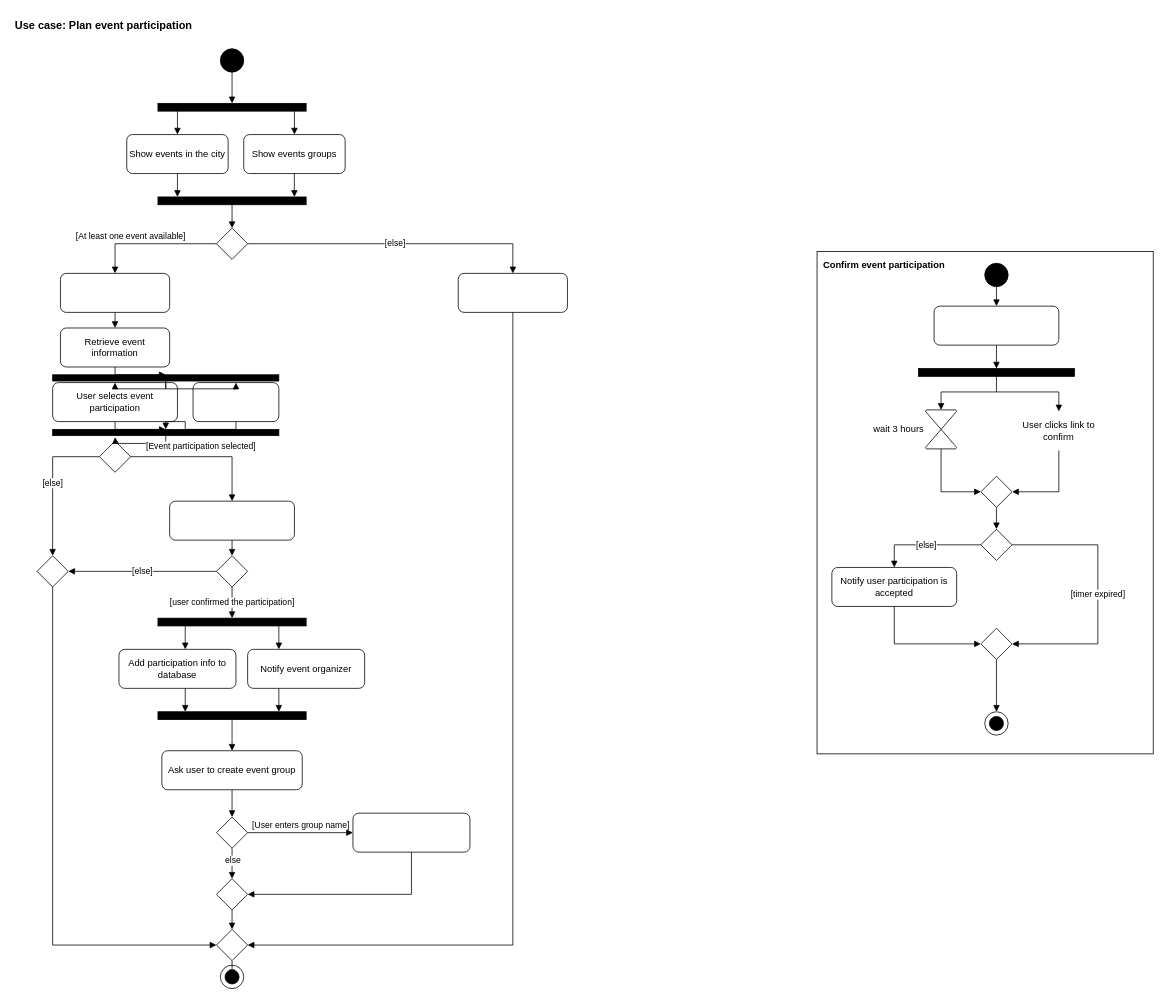
Image size: 1167x1002. Some labels were removed from this diagram. Here are the shapes that lost their labels. From the top down, the box of each, then its label:
(60, 273, 170, 312): Event selection
(457, 273, 567, 312): Notify no events available
(933, 305, 1059, 345): Send confirmation email with link
(192, 382, 279, 422): Wait 10 seconds
(169, 500, 294, 540): Confirm event participation*
(352, 812, 470, 852): Save event group
